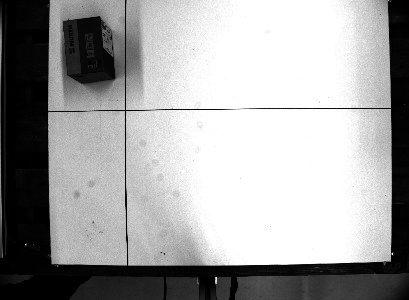b4: (60, 14, 117, 85)
